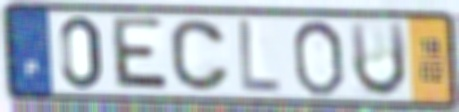0: (57, 14, 103, 92)
C: (167, 17, 233, 94)
E: (111, 14, 173, 95)
L: (237, 17, 284, 97)
O: (290, 18, 347, 99)
U: (346, 19, 410, 100)
